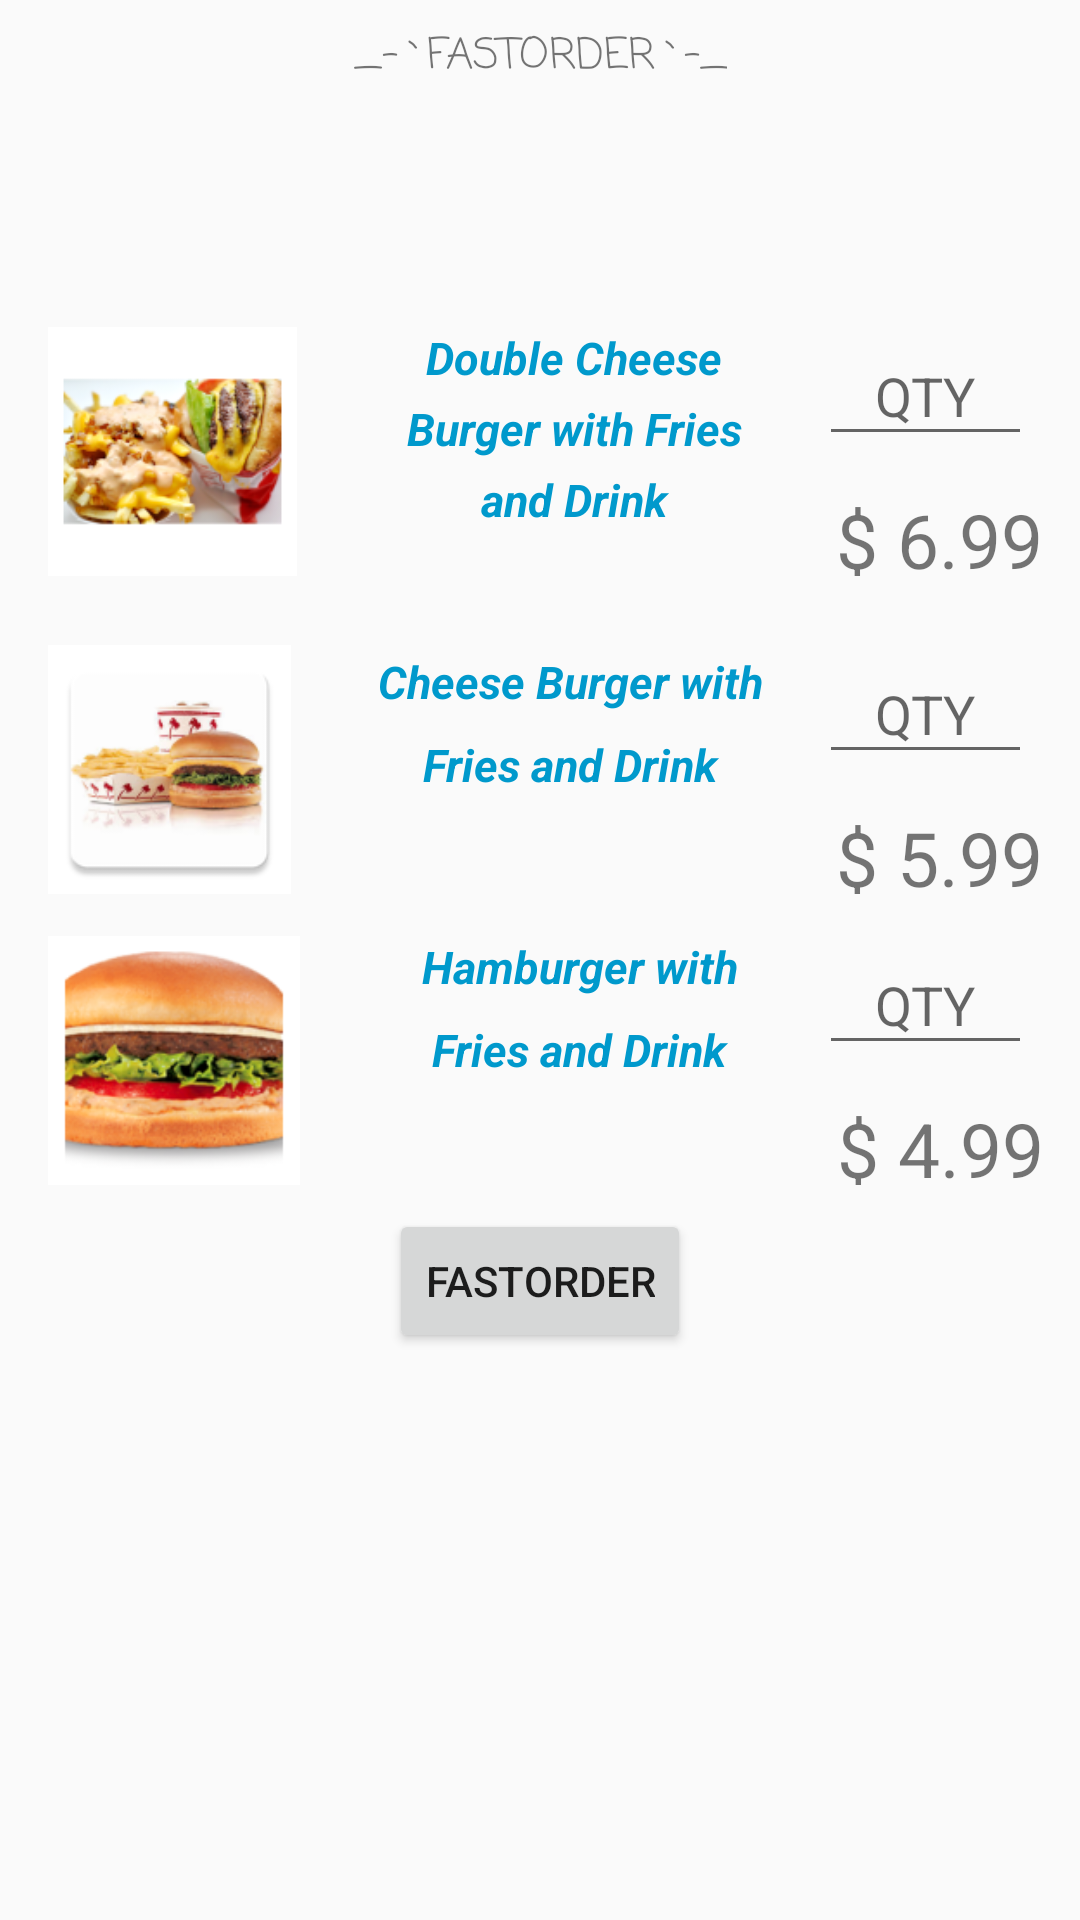

Screen size 1080×1920. Icon name, then its box in pixels as Rect(x1, y1, x2, y2):
combotwo: Rect(70, 682, 269, 874)
doubledouble: Rect(63, 378, 282, 525)
